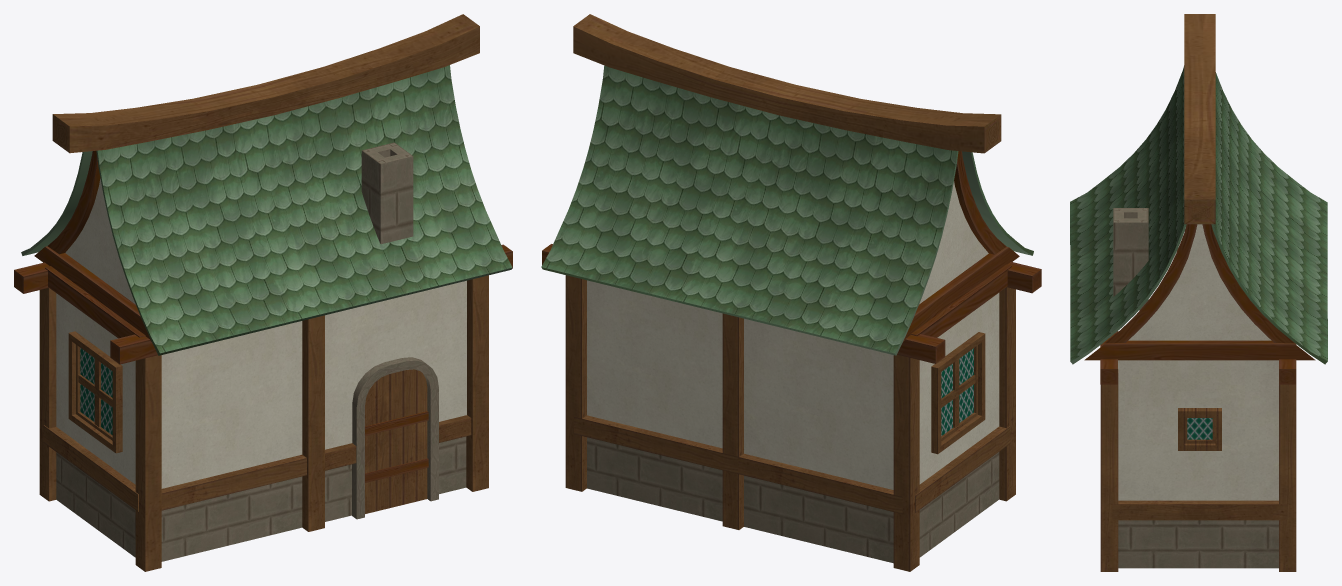
Rendered from SM_House_level_3.glb.
3 views of the same model, side by side, from view 1: azimuth 30°, elevation 25°; view 2: azimuth 150°, elevation 25°; view 3: azimuth 270°, elevation 25° (orthographic). The views are drawn at different scales.
Visible parts, largest first — view 1: SM_House_Level_3; view 2: SM_House_Level_3; view 3: SM_House_Level_3.
Boxes of the visible parts, box(x1,y1,x2,y2) form: SM_House_Level_3: box(14, 14, 512, 571); SM_House_Level_3: box(541, 14, 1041, 571); SM_House_Level_3: box(1070, 14, 1327, 571).
Bounding box in the file's own units: 1097 × 1073 × 645.
2 materials, 2 textured.
